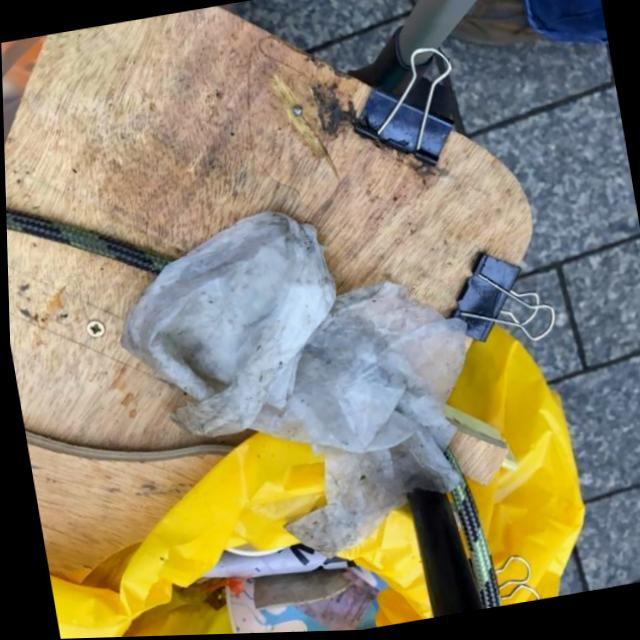Paper: (95, 178, 506, 591)
